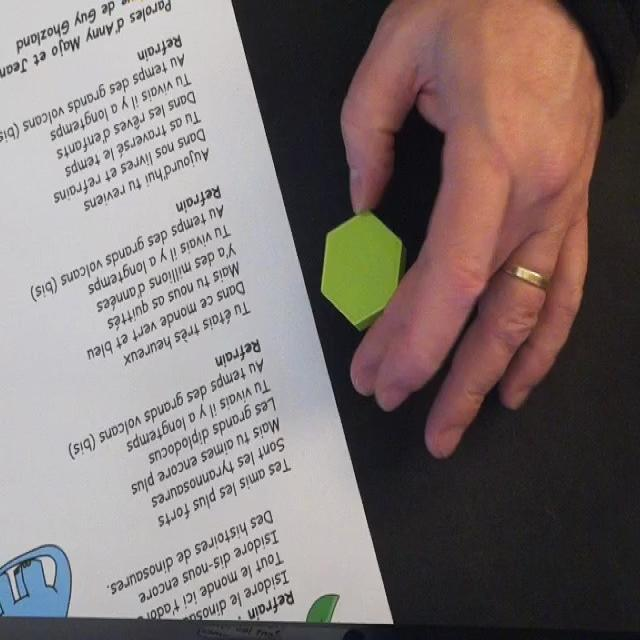hexagon: (319, 208, 403, 328)
